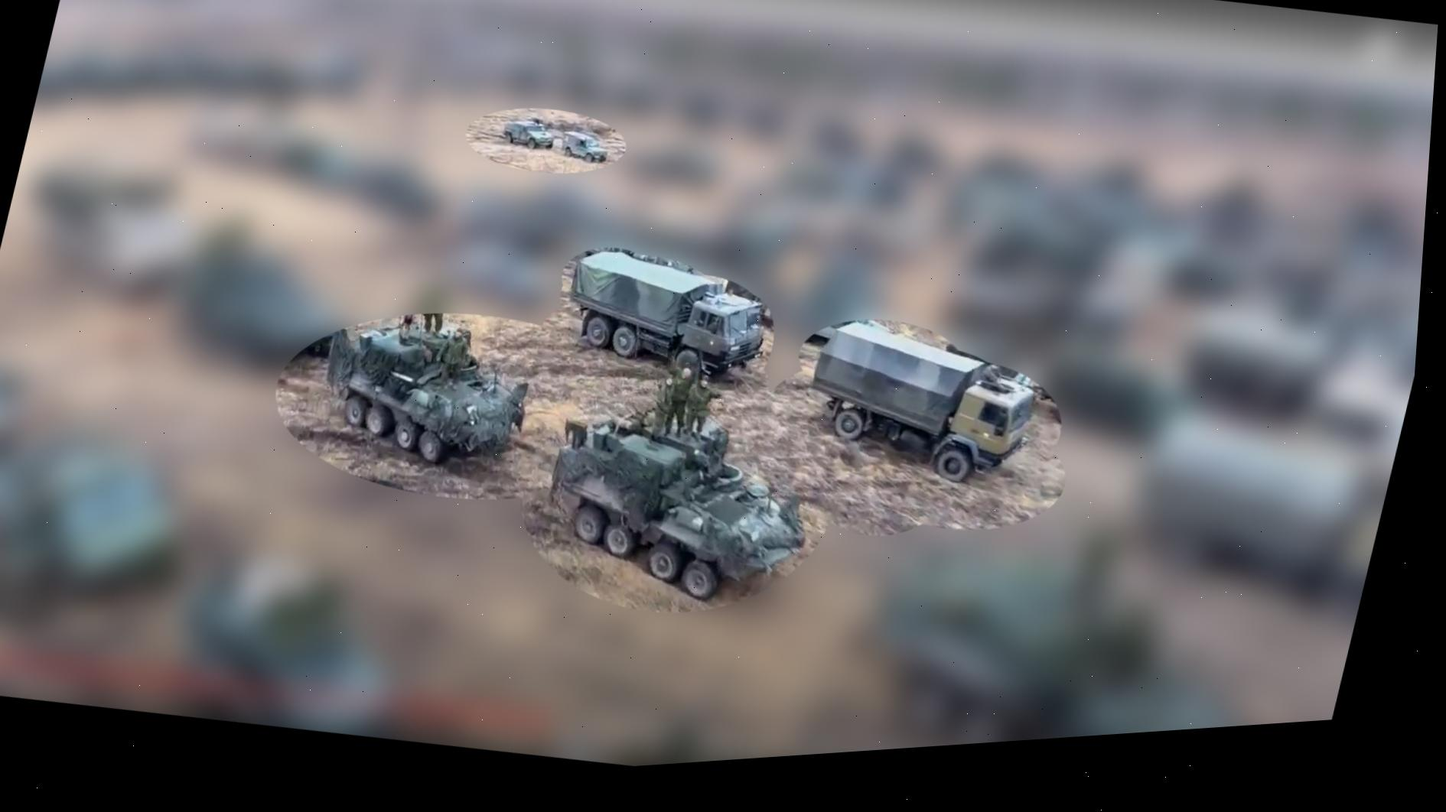armored_car: (520, 392, 834, 630), (300, 296, 547, 483), (555, 126, 614, 170), (499, 115, 561, 154)
truck: (787, 301, 1056, 506), (548, 231, 786, 405)
